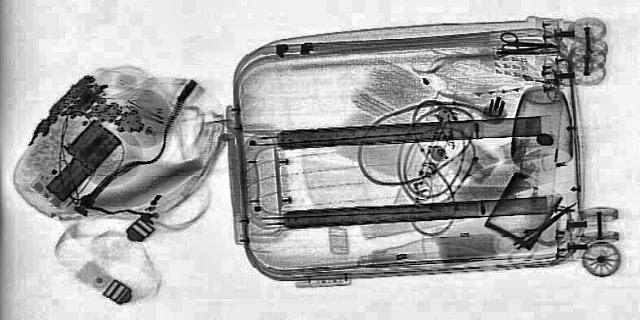Knife: (504, 199, 586, 251)
Scissors: (495, 31, 561, 53)
